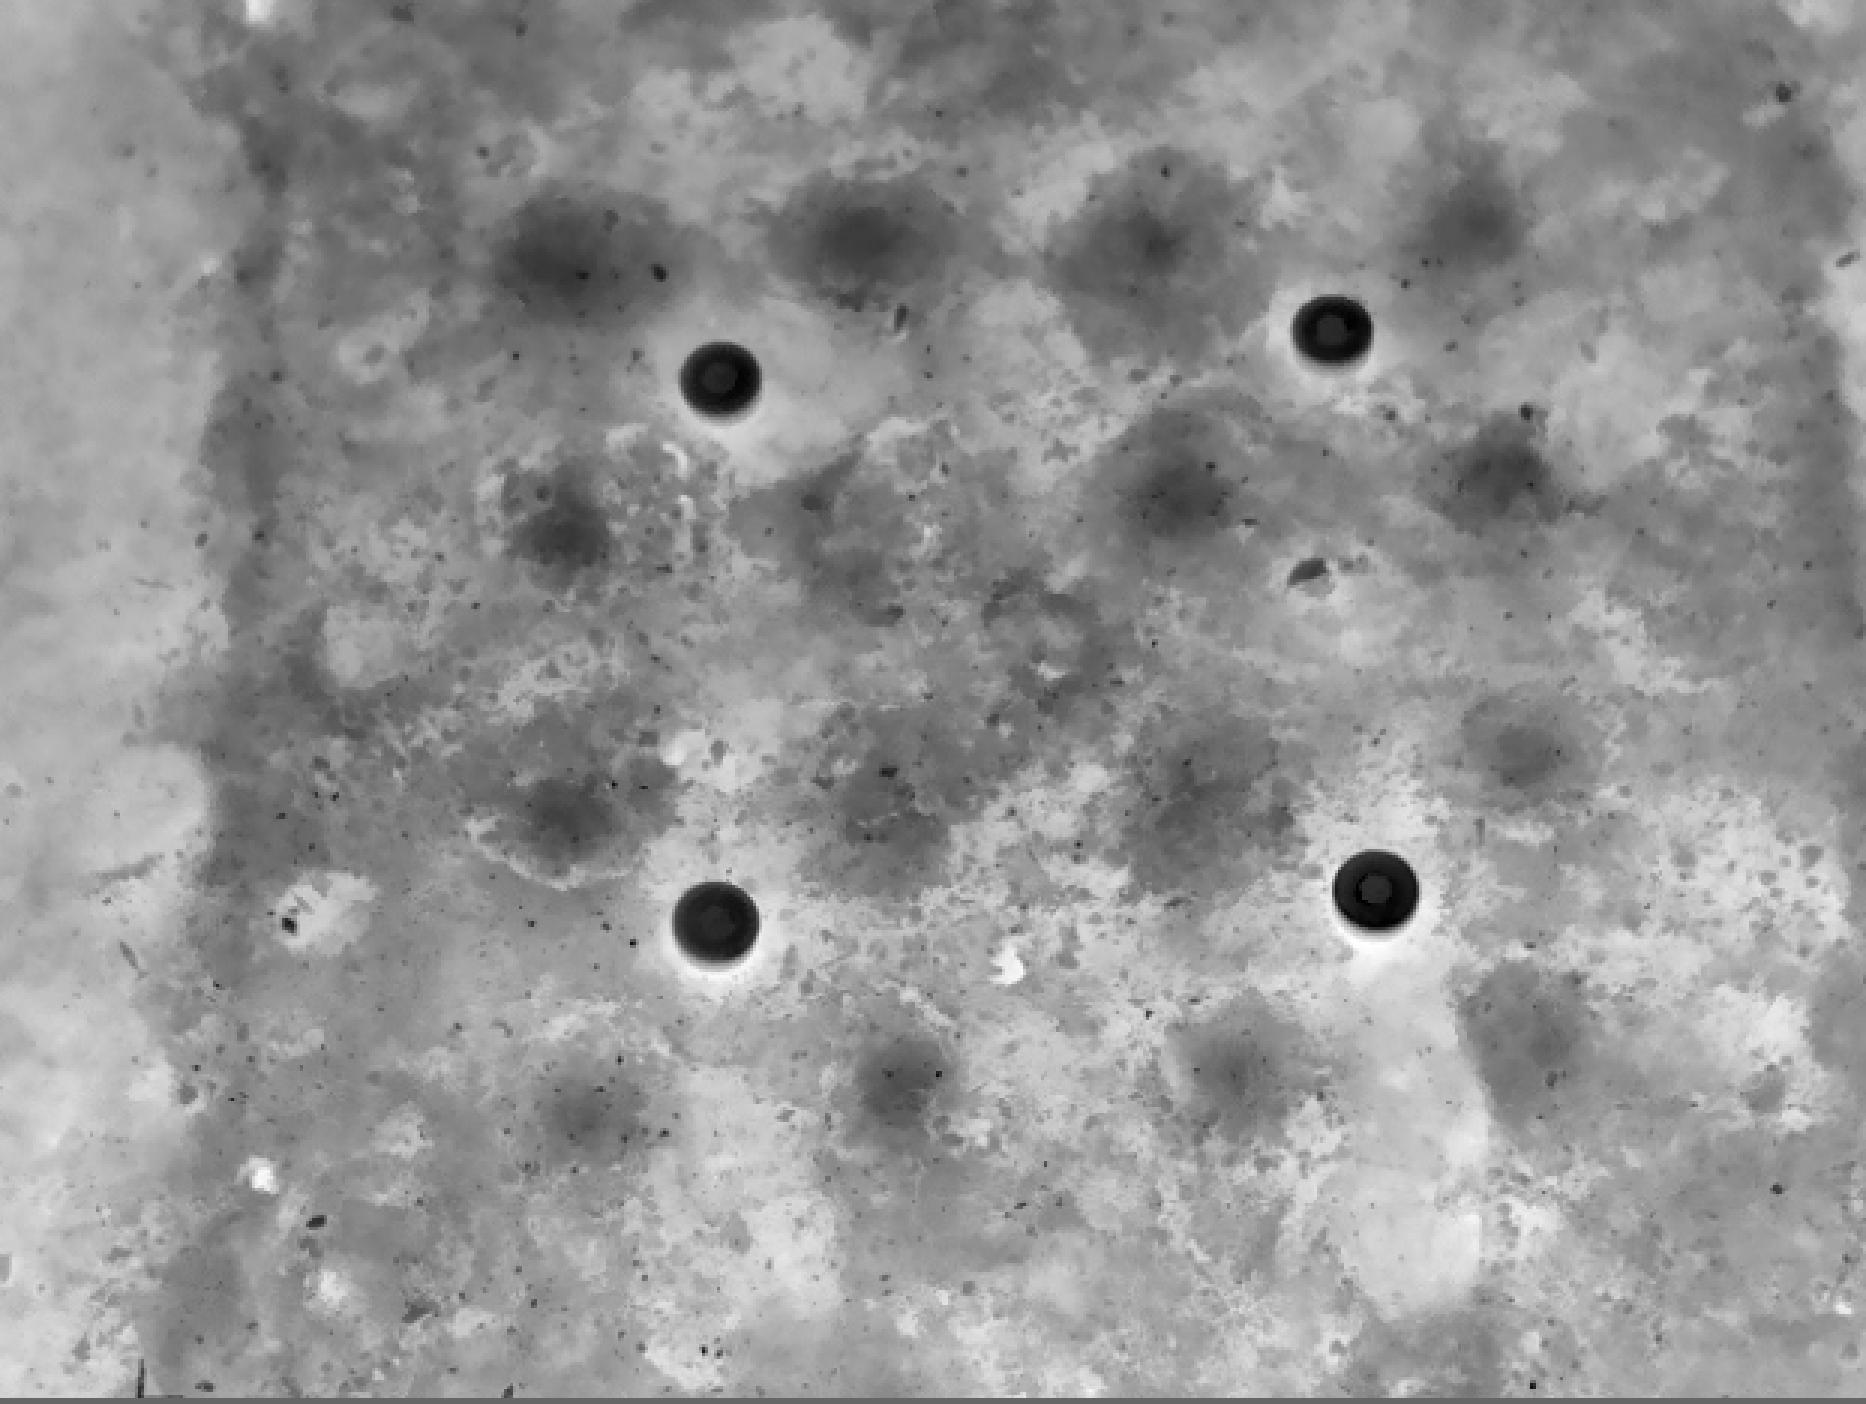mines-gjV8: (1332, 838, 1429, 934), (679, 875, 776, 965), (687, 335, 766, 423), (1295, 292, 1376, 372)
